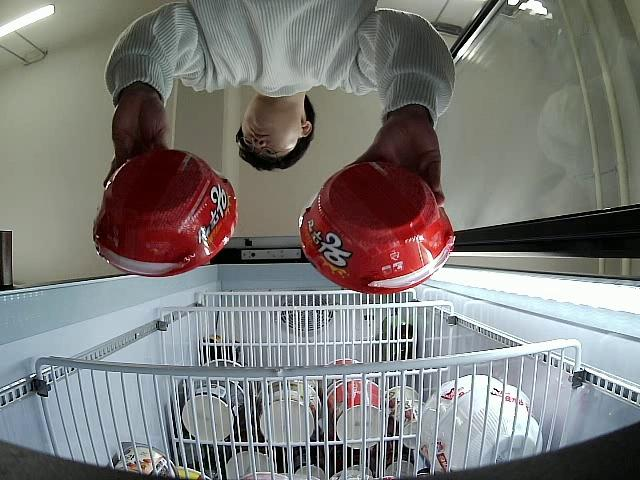00_hand: (343, 114, 445, 209), (103, 109, 173, 189)
10_wangTtukkeong: (299, 160, 455, 295), (93, 152, 237, 277)
